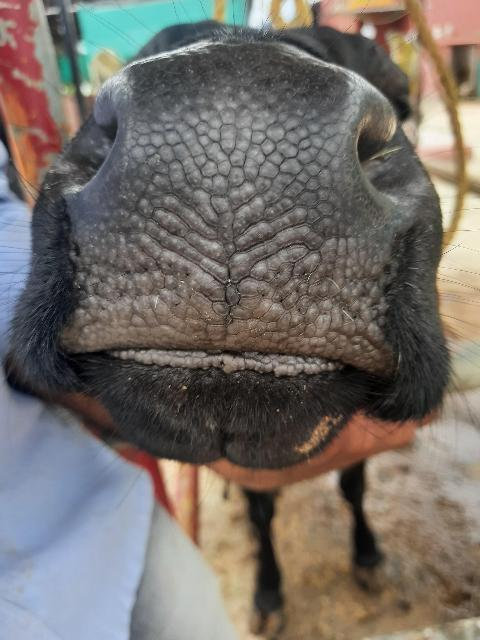Muzzle: (68, 65, 404, 371)
